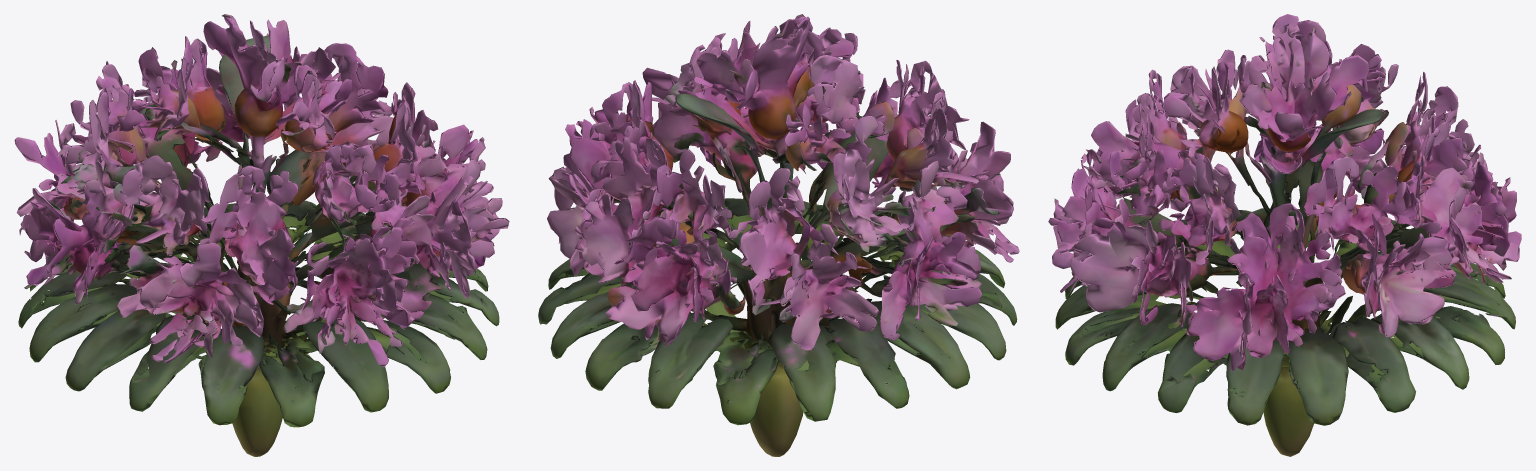
The model's file is nature-bush-rhododendron.glb.
The picture shows the model from 3 angles, left to right: view 1: azimuth 30°, elevation 25°; view 2: azimuth 150°, elevation 25°; view 3: azimuth 270°, elevation 25°; orthographic projection. The views are drawn at different scales.
Visible parts, largest first — view 1: tripo_node_ff1d7284-b523-4042-9761-2fb72fe90a97; view 2: tripo_node_ff1d7284-b523-4042-9761-2fb72fe90a97; view 3: tripo_node_ff1d7284-b523-4042-9761-2fb72fe90a97.
Part boxes in pixels (box(x1,y1,x2,y2)): tripo_node_ff1d7284-b523-4042-9761-2fb72fe90a97: box(14, 14, 509, 456); tripo_node_ff1d7284-b523-4042-9761-2fb72fe90a97: box(538, 14, 1019, 456); tripo_node_ff1d7284-b523-4042-9761-2fb72fe90a97: box(1048, 14, 1521, 456).
Size of the model in its own units: 1.55 by 1.5 by 1.51.
Materials: 1 (1 with a texture image).
